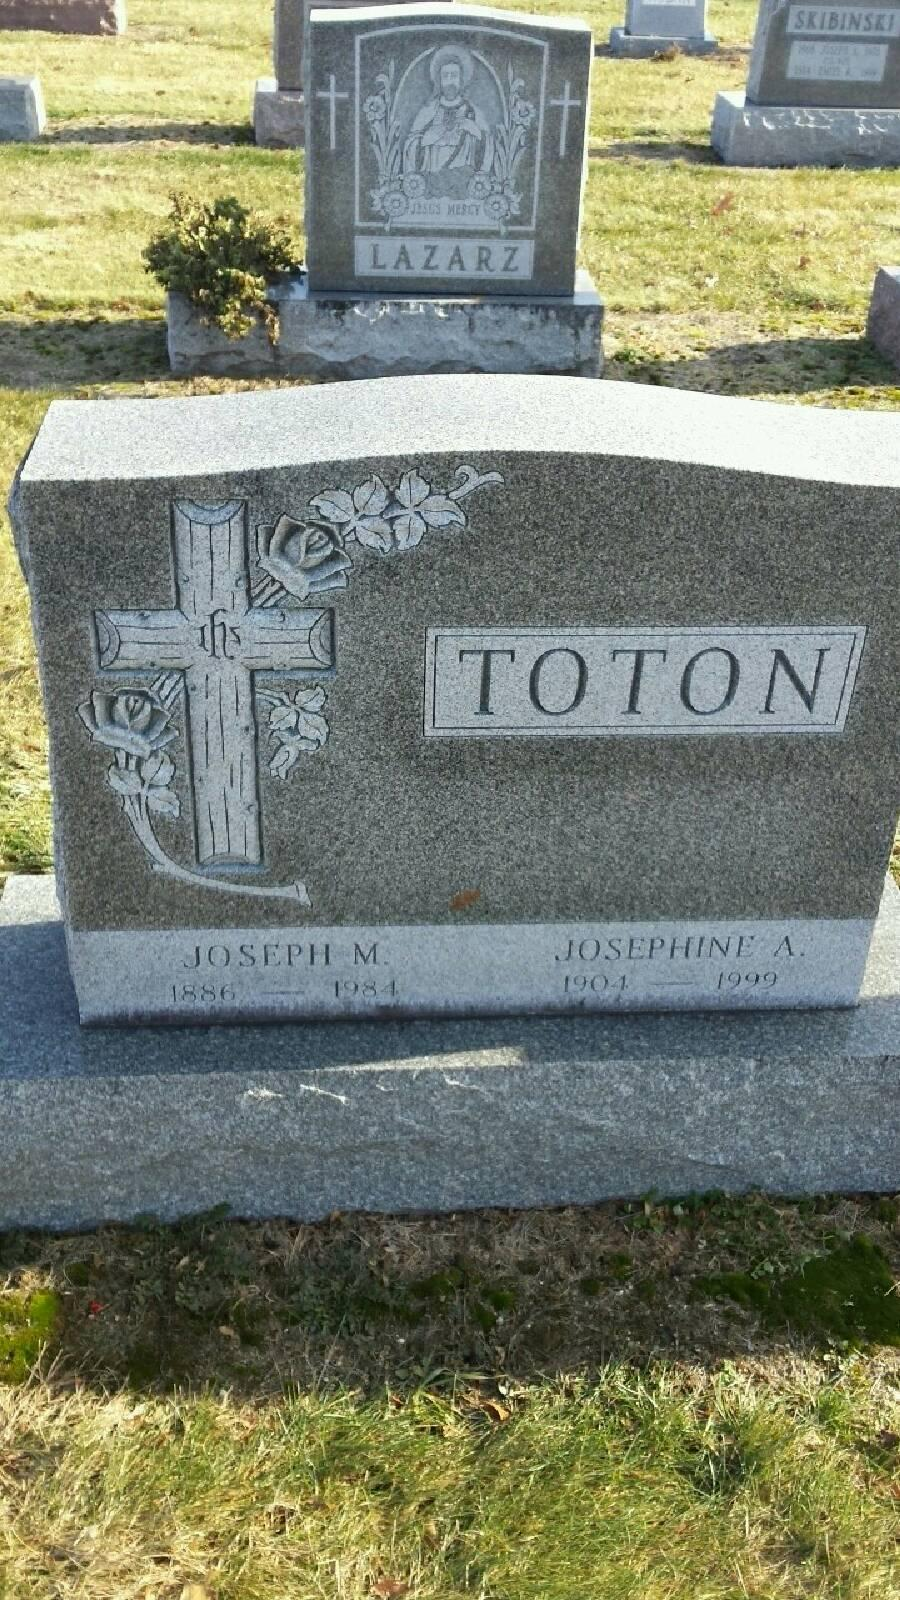upright: (4, 378, 900, 1192)
